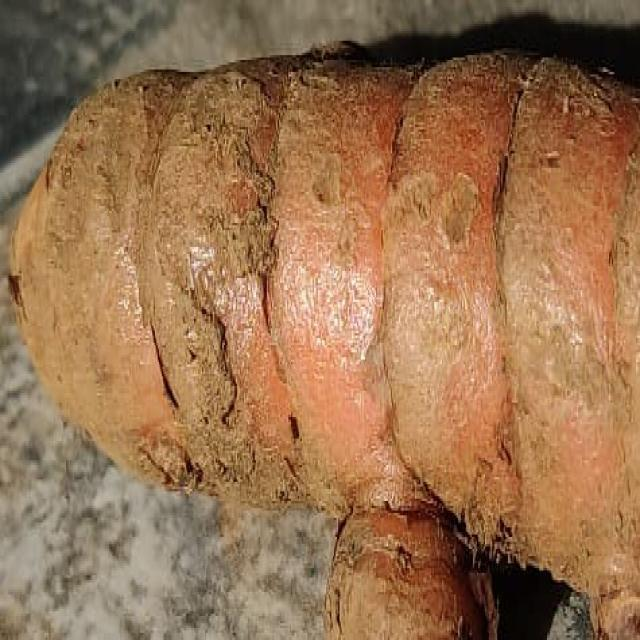ginger: (23, 58, 640, 566)
